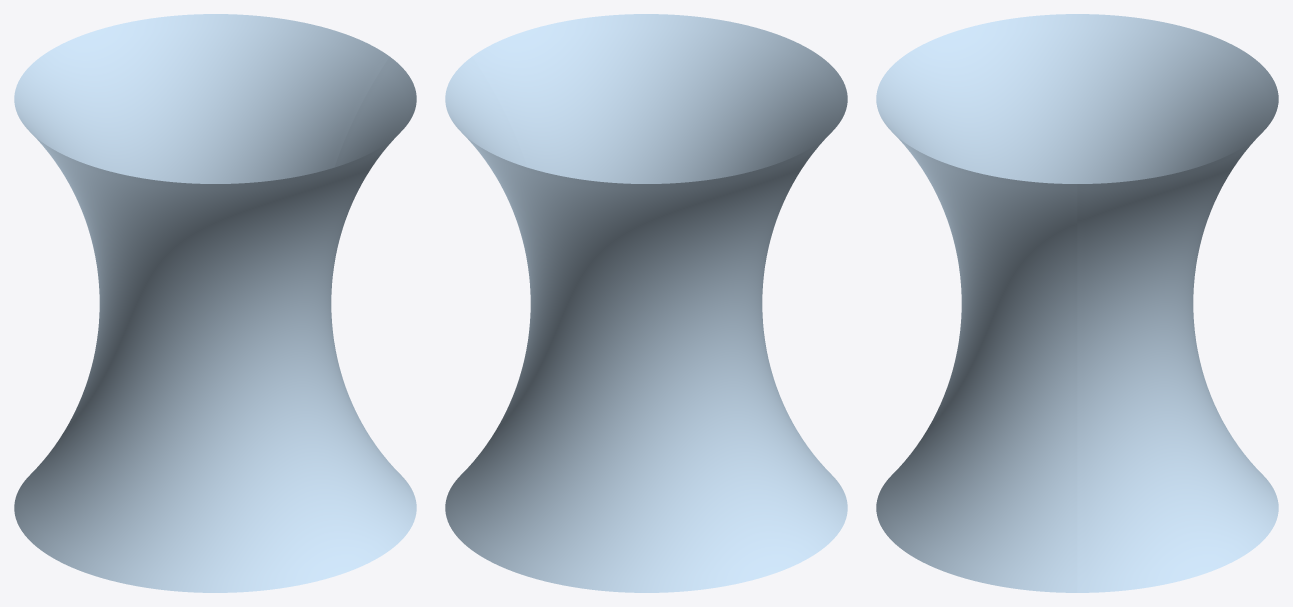
Rendered from ex_catenoid.glb.
The picture shows the model from 3 angles, left to right: view 1: azimuth 30°, elevation 25°; view 2: azimuth 150°, elevation 25°; view 3: azimuth 270°, elevation 25°; orthographic projection.
Parts seen in each view (by area): view 1: Catenoid; view 2: Catenoid; view 3: Catenoid.
Part boxes in pixels (x1=…): Catenoid: x1=14, y1=14, x2=416, y2=592; Catenoid: x1=445, y1=14, x2=847, y2=592; Catenoid: x1=876, y1=14, x2=1278, y2=592.
Size of the model in its own units: 2.15 by 2.41 by 2.15.
